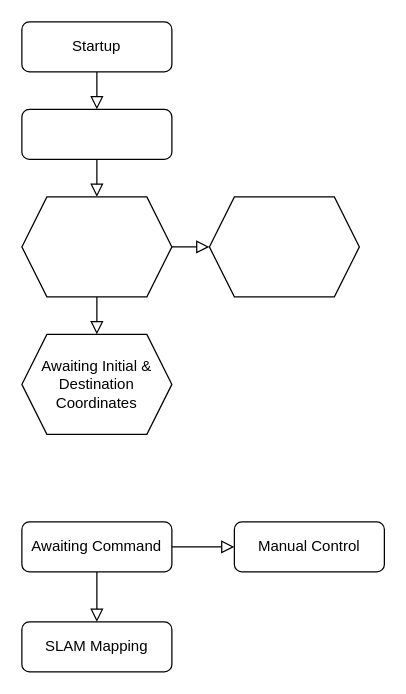
The diagram is 406 pixels wide and 694 high, and some of its shapes have lost their labels. The centre of each missing label's shape, as x and y in pixels:
Awaiting Manual/Autonomous Control command: the point at 96,246
Sensor Initilization: the point at 96,133
